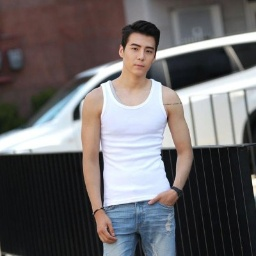face: (117, 20, 162, 77)
